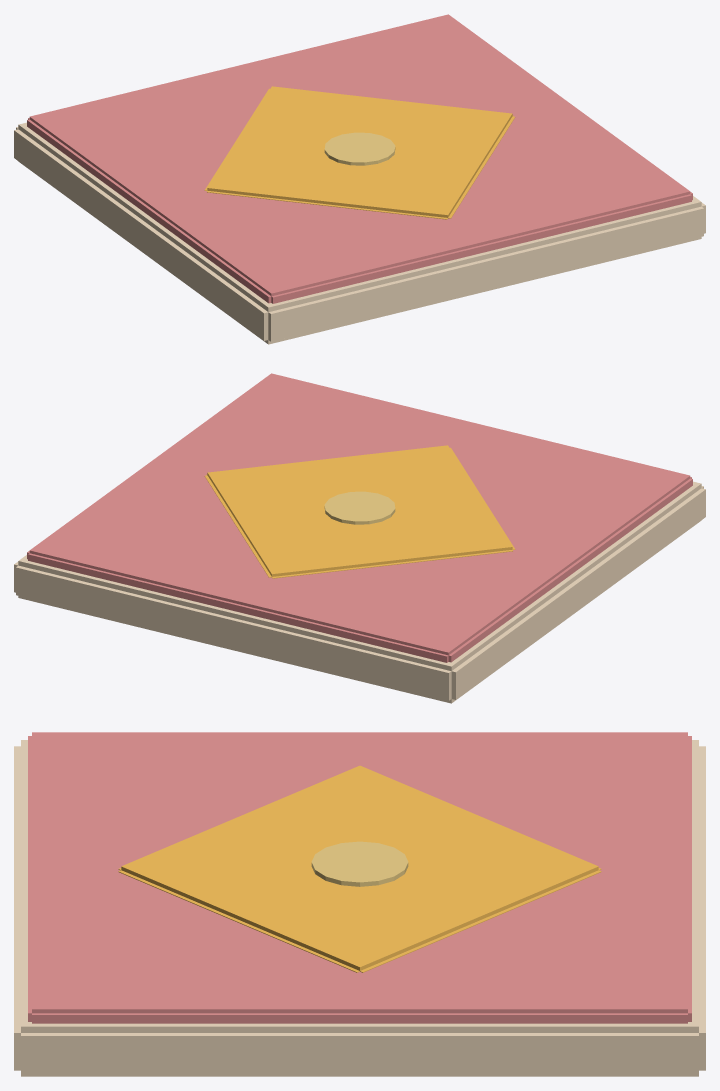
The model's file is HOB_Tile_Red.fbx.
The picture shows the model from 3 angles, top to bottom: view 1: azimuth 30°, elevation 25°; view 2: azimuth 150°, elevation 25°; view 3: azimuth 270°, elevation 25°; orthographic projection. The views are drawn at different scales.
Parts seen in each view (by area): view 1: HOB_Tile_Red; view 2: HOB_Tile_Red; view 3: HOB_Tile_Red.
Part boxes in pixels (bbox=[...]): HOB_Tile_Red: bbox=[14, 14, 705, 344]; HOB_Tile_Red: bbox=[14, 373, 705, 703]; HOB_Tile_Red: bbox=[14, 732, 705, 1076].
Size of the model in its own units: 100 by 11.4 by 100.
